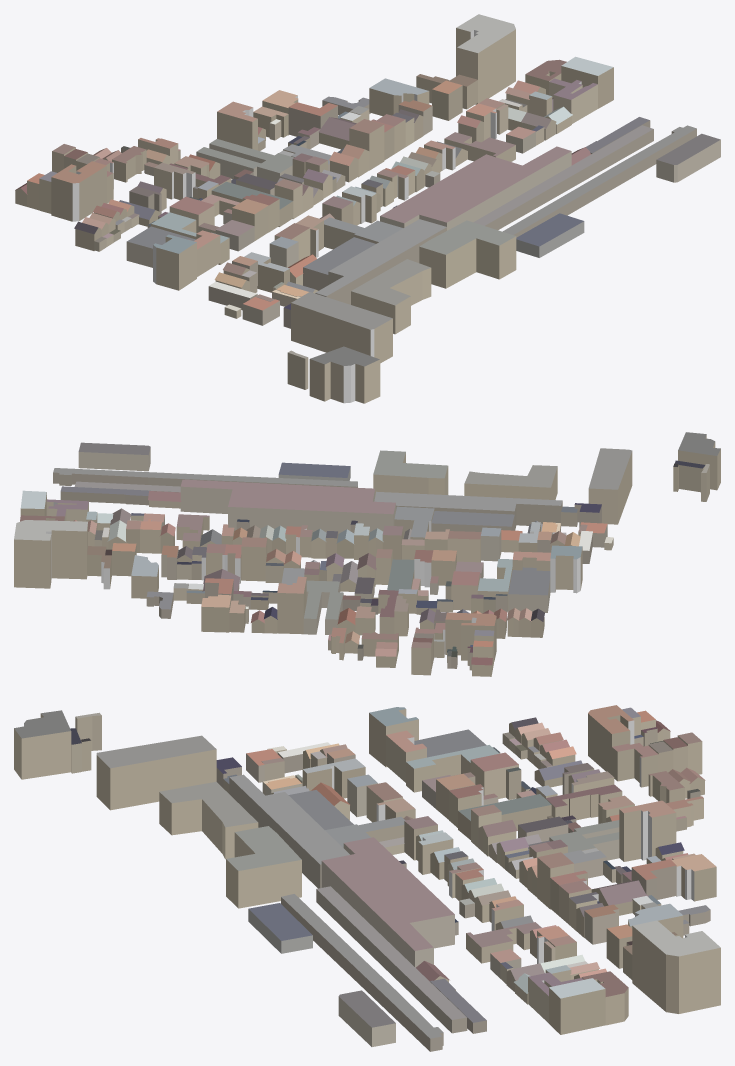
3 views of the same model, one above another, from view 1: azimuth 30°, elevation 25°; view 2: azimuth 150°, elevation 25°; view 3: azimuth 270°, elevation 25° (orthographic). The views are drawn at different scales.
Visible parts, largest first — view 1: tuile; view 2: tuile; view 3: tuile.
Part boxes in pixels (left/top/right/bottom): tuile: left=15, top=14, right=720, bottom=403; tuile: left=14, top=432, right=720, bottom=676; tuile: left=14, top=705, right=720, bottom=1051.
Size of the model in its own units: 263 by 23.33 by 251.
